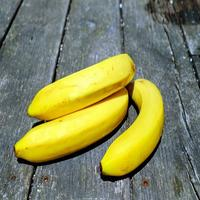banane: (10, 89, 133, 162), (112, 75, 177, 181), (33, 59, 139, 112)
